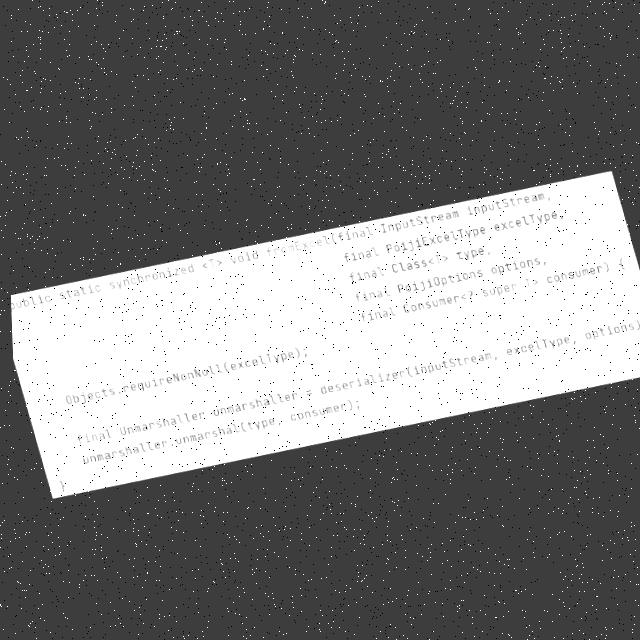code_screen: (11, 172, 640, 497)
